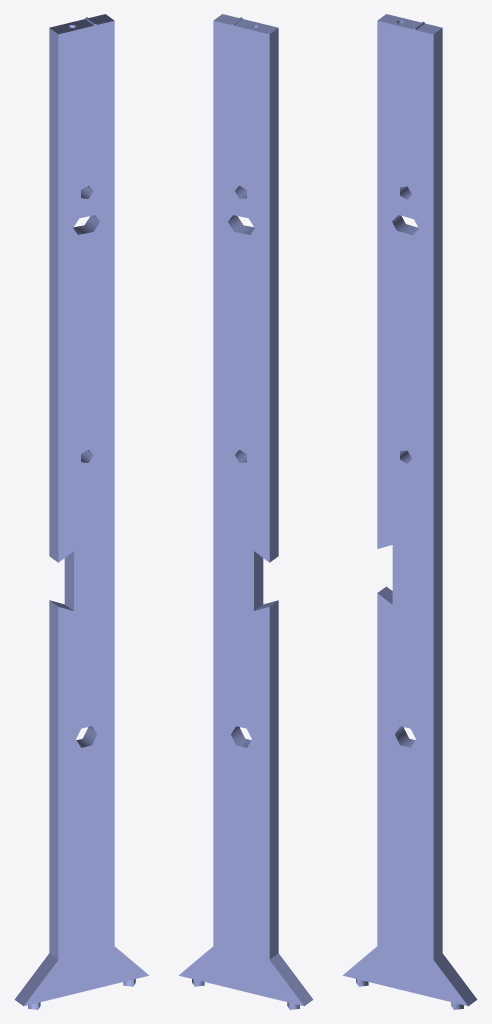
File: Copie de pilier 3^Copie de ASS pilier 3_Horloge Comtoise Verge - Sonnerie.obj
3 renders of one model, left to right at view 1: azimuth 30°, elevation 25°; view 2: azimuth 150°, elevation 25°; view 3: azimuth 330°, elevation 25°, orthographic.
Parts seen in each view (by area): view 1: Face_17, Face_5, Face_12, Face_11, Face_3, Face_6; view 2: Face_1, Face_5, Face_12, Face_11, Face_3, Face_6; view 3: Face_17, Face_8, Face_9.
Part boxes in pixels (box(x1,y1,x2,y2)): Face_17: box(24, 20, 148, 1005); Face_5: box(49, 28, 58, 562); Face_12: box(49, 600, 58, 959); Face_11: box(14, 953, 57, 1005); Face_3: box(64, 551, 73, 610); Face_6: box(49, 19, 93, 34); Face_1: box(179, 20, 303, 1005); Face_5: box(269, 28, 278, 562); Face_12: box(269, 600, 278, 959); Face_11: box(270, 953, 313, 1005); Face_3: box(254, 551, 263, 610); Face_6: box(234, 19, 278, 34); Face_17: box(343, 20, 467, 1005); Face_8: box(433, 28, 442, 959); Face_9: box(434, 953, 477, 1005).
Bounding box in the file's own units: 0.0327 × 0.2413 × 0.0041.
